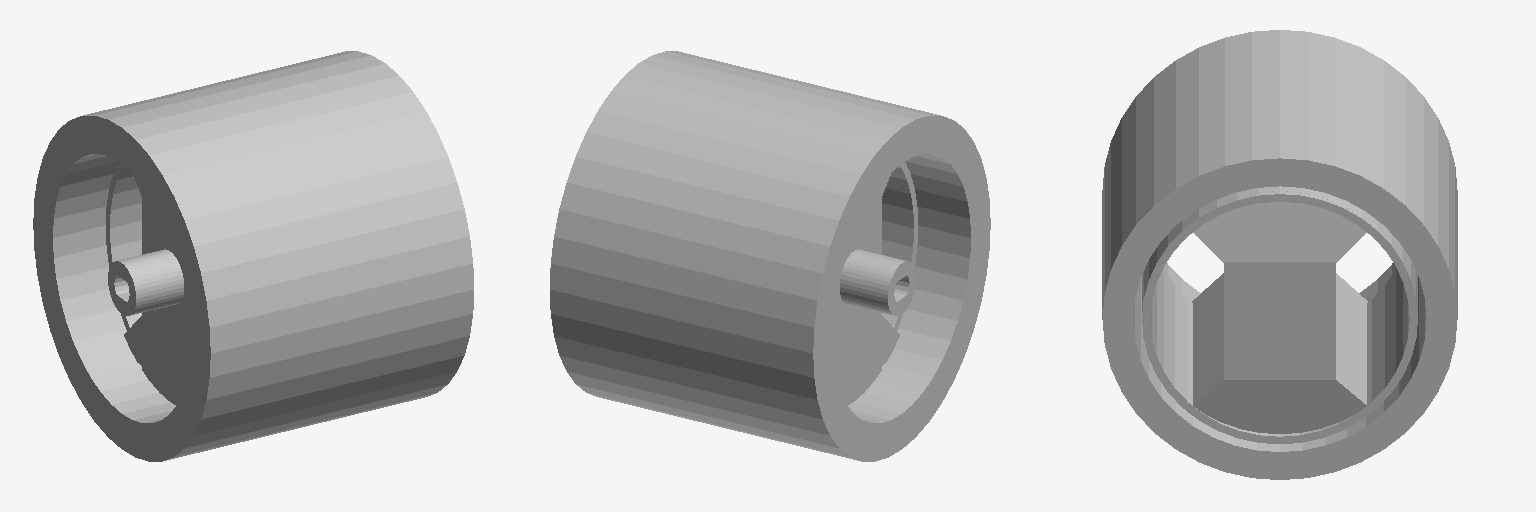
The model's file is Wheel.obj.
3 renders of one model, left to right at view 1: azimuth 30°, elevation 25°; view 2: azimuth 150°, elevation 25°; view 3: azimuth 270°, elevation 25°, orthographic.
Parts seen in each view (by area): view 1: obj_0; view 2: obj_0; view 3: obj_0.
Part boxes in pixels (x1,y1,x2,y2): obj_0: (33,51,473,461); obj_0: (550,51,990,461); obj_0: (1102,30,1457,479).
Bounding box in the file's own units: 12.2 × 14 × 14.